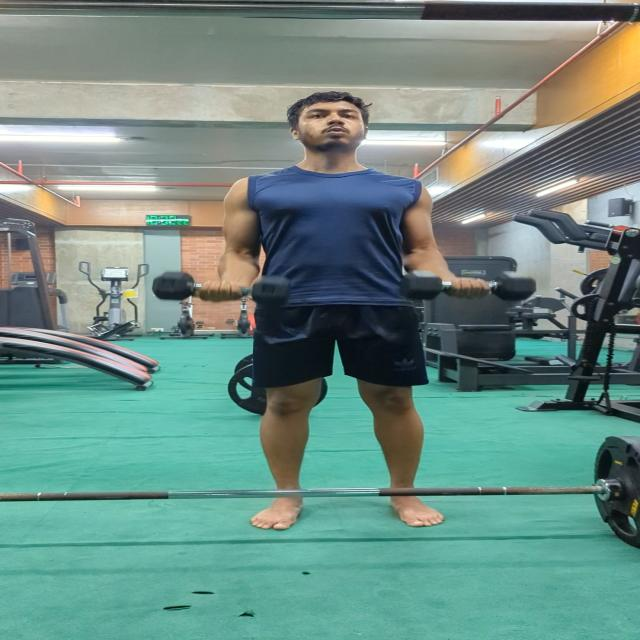Normal_DumbbellBicepCurls: (144, 79, 546, 530)
